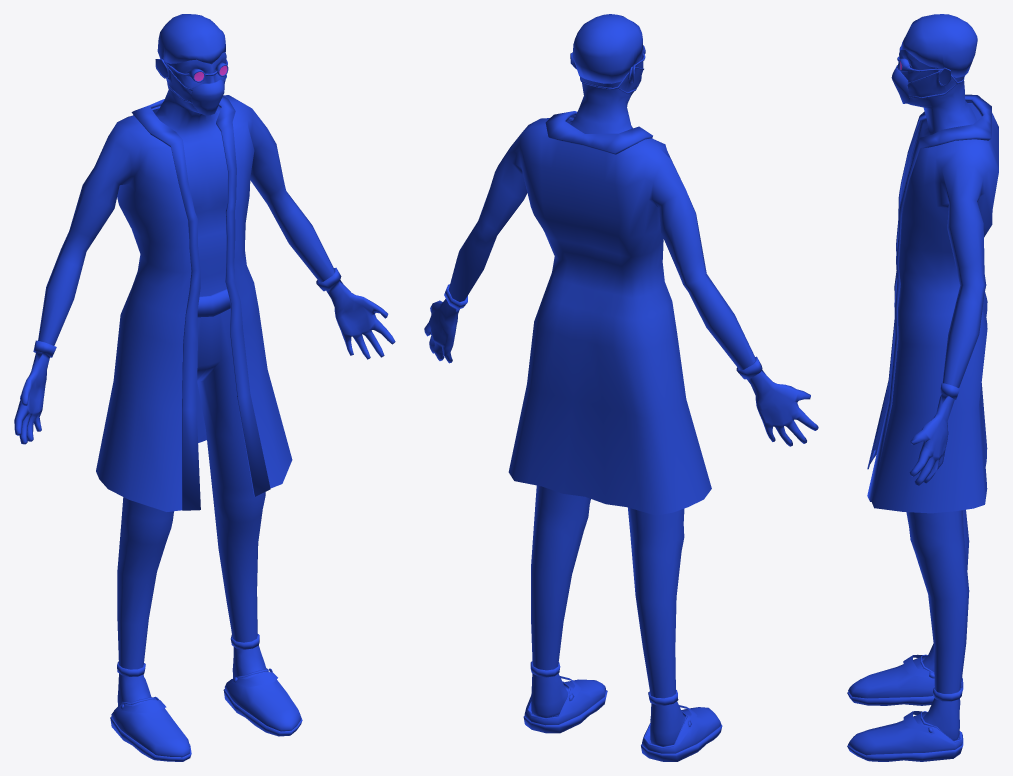
Rendered from DoctorTextureModel.fbx.
3 renders of one model, left to right at view 1: azimuth 30°, elevation 25°; view 2: azimuth 150°, elevation 25°; view 3: azimuth 270°, elevation 25°, orthographic. The views are drawn at different scales.
Visible parts, largest first — view 1: Doctor; view 2: Doctor; view 3: Doctor.
Part boxes in pixels (bbox=[...]): Doctor: bbox=[14, 14, 395, 761]; Doctor: bbox=[424, 14, 818, 761]; Doctor: bbox=[847, 14, 998, 761].
Bounding box in the file's own units: 0.9984 × 1.75 × 0.3416.
